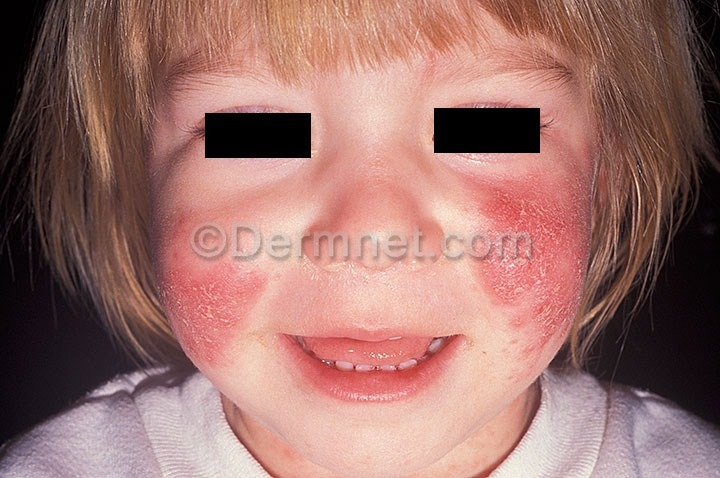Eczema: (462, 175, 589, 359), (164, 207, 269, 371), (451, 407, 514, 461), (254, 432, 301, 478)
